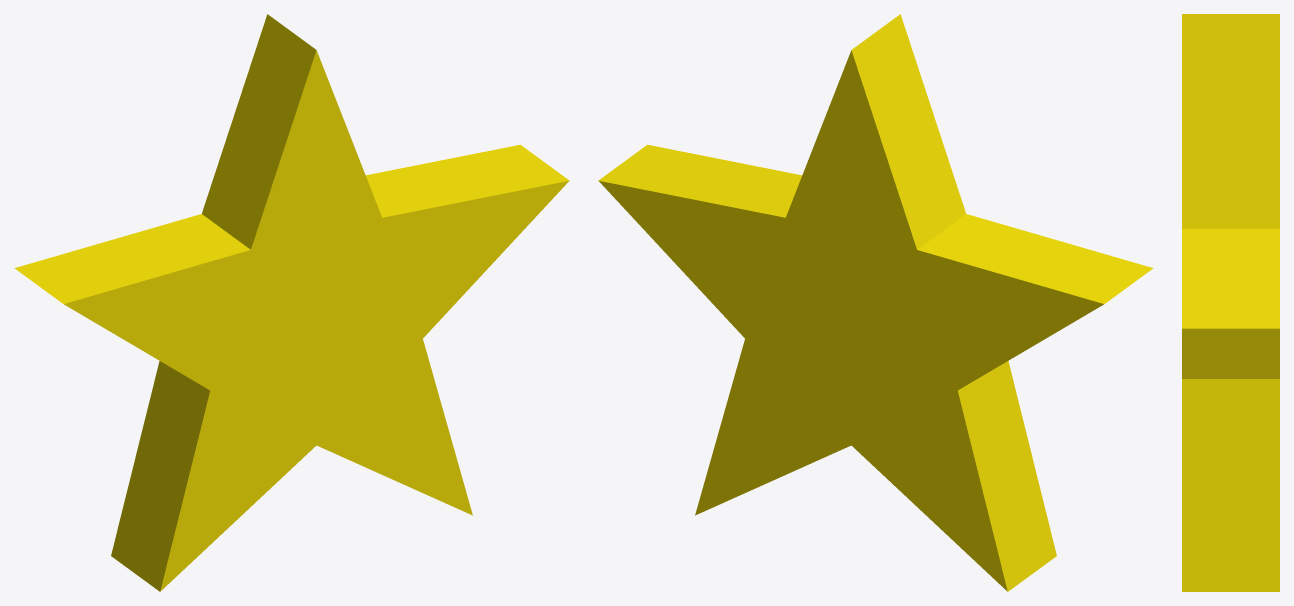
Rendered from yildiz.glb.
The picture shows the model from 3 angles, left to right: view 1: azimuth 30°, elevation 25°; view 2: azimuth 150°, elevation 25°; view 3: azimuth 270°, elevation 25°; orthographic projection.
Parts seen in each view (by area): view 1: Yildiz; view 2: Yildiz; view 3: Yildiz.
Boxes of the visible parts, box(x1,y1,x2,y2) form: Yildiz: box(14, 14, 569, 591); Yildiz: box(598, 14, 1153, 591); Yildiz: box(1182, 14, 1279, 591).
Bounding box in the file's own units: 0.95 × 0.9035 × 0.1598.
